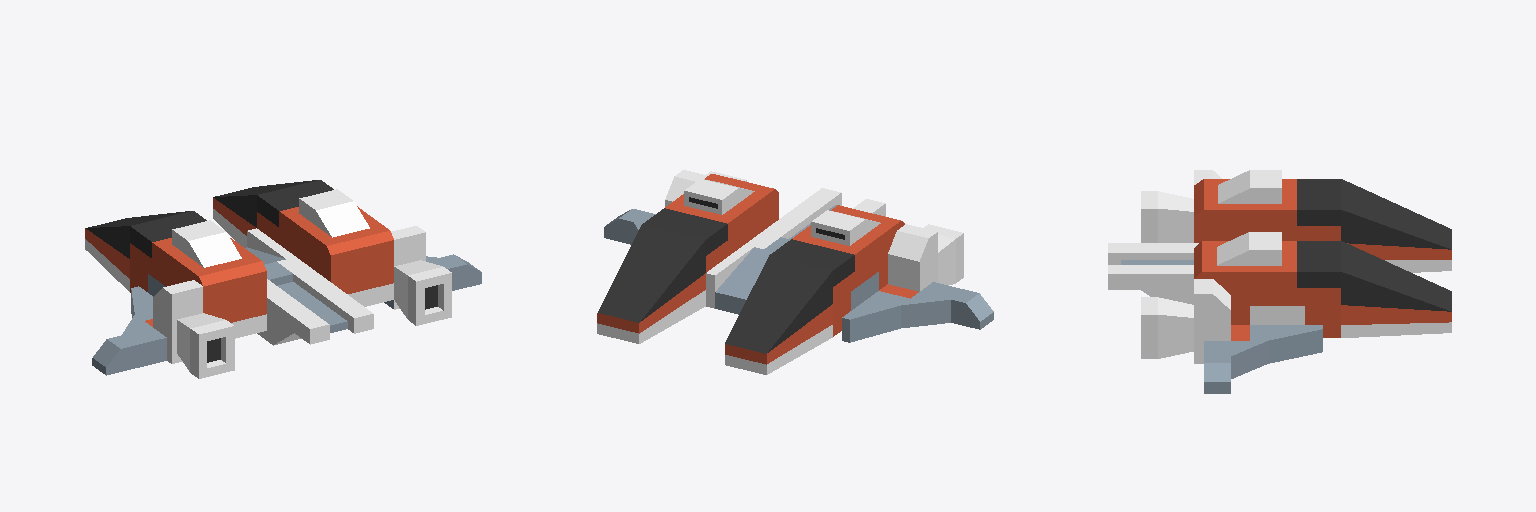
The model's file is spaceCraft6.obj.
3 renders of one model, left to right at view 1: azimuth 30°, elevation 25°; view 2: azimuth 150°, elevation 25°; view 3: azimuth 270°, elevation 25°, orthographic.
Visible parts, largest first — view 1: spaceCraft6; view 2: spaceCraft6; view 3: spaceCraft6.
Part boxes in pixels (x1,y1,x2,y2): spaceCraft6: (85, 180, 481, 378); spaceCraft6: (597, 170, 993, 374); spaceCraft6: (1108, 170, 1451, 393).
Bounding box in the file's own units: 23.35 × 5.45 × 18.5.